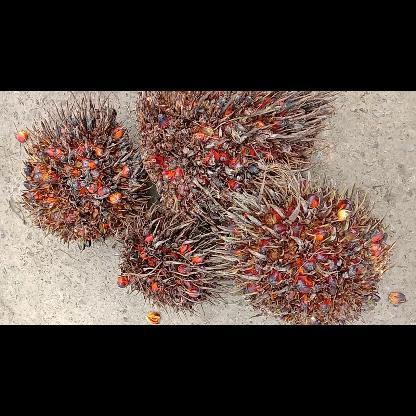Terlalu masak: (200, 170, 392, 324), (132, 91, 344, 221), (20, 90, 156, 252), (119, 202, 244, 318)
